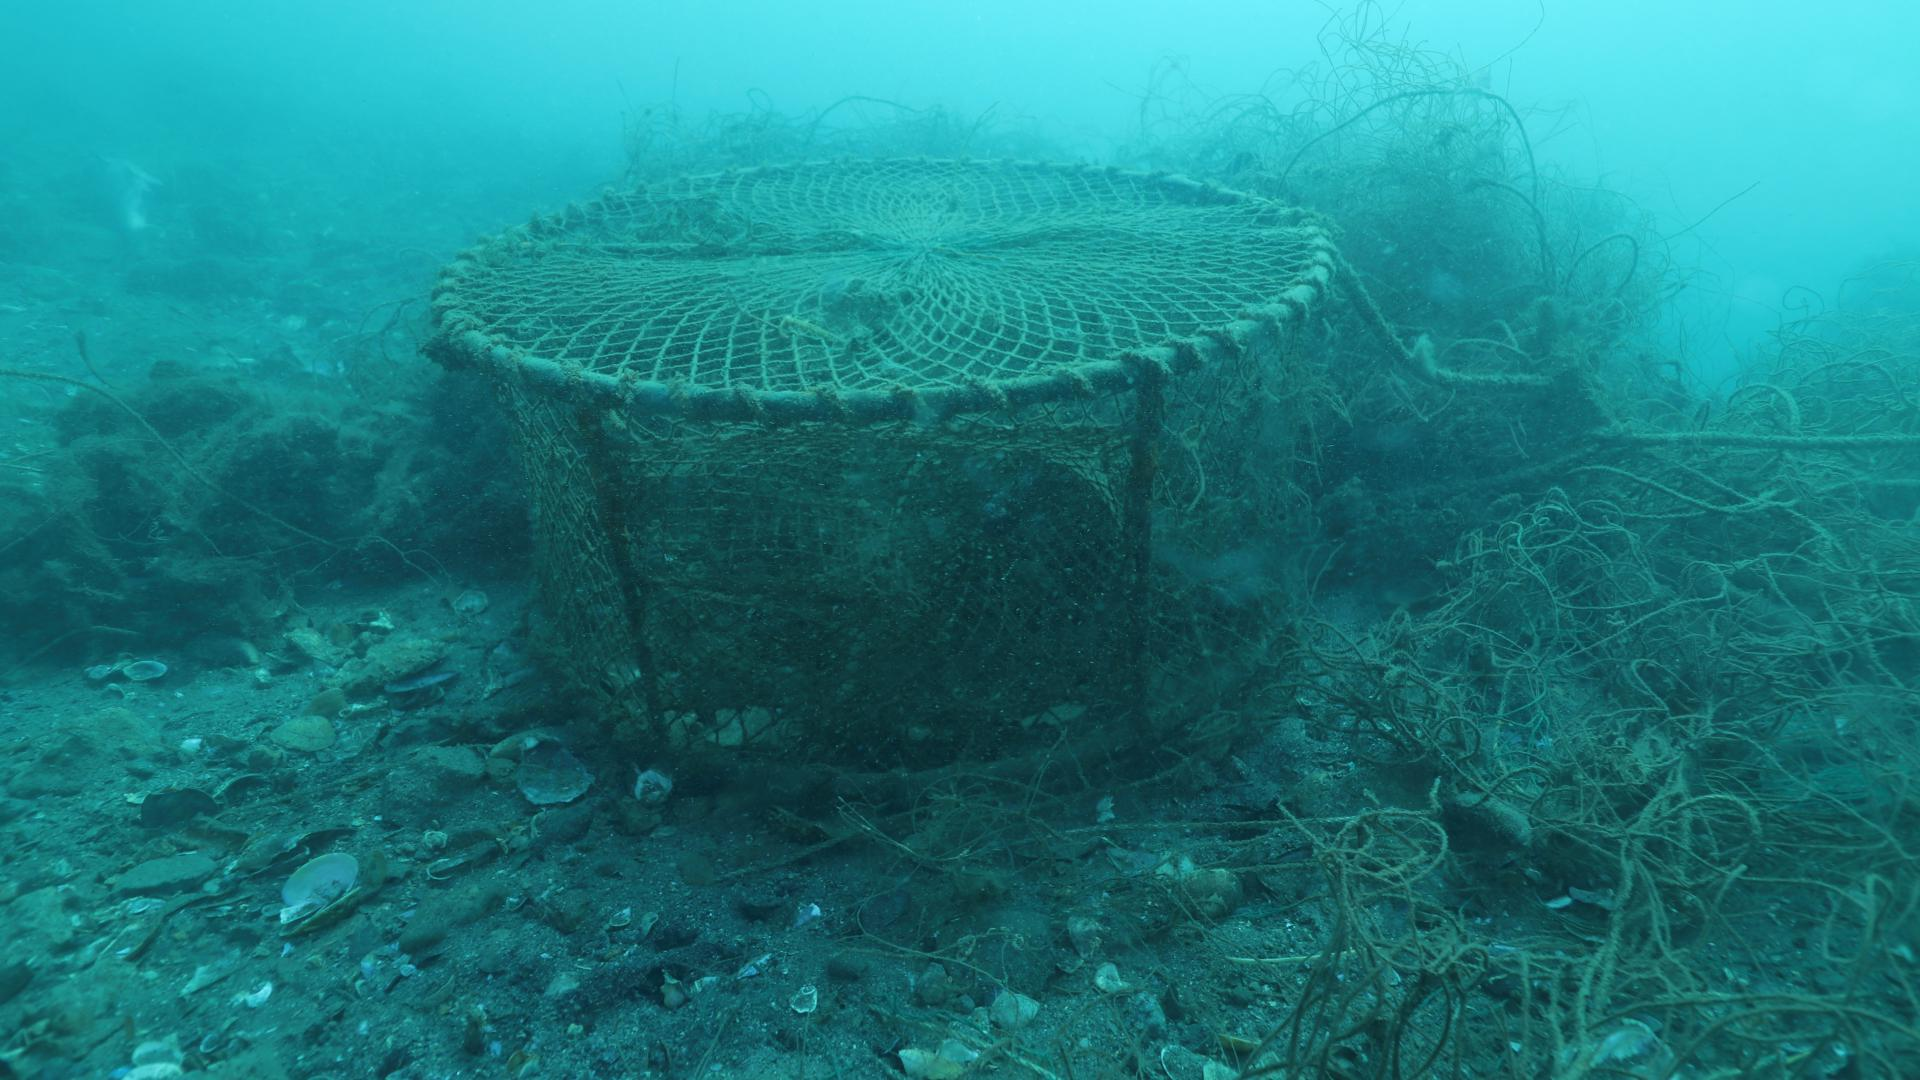circular fish trap: (431, 152, 1342, 795)
